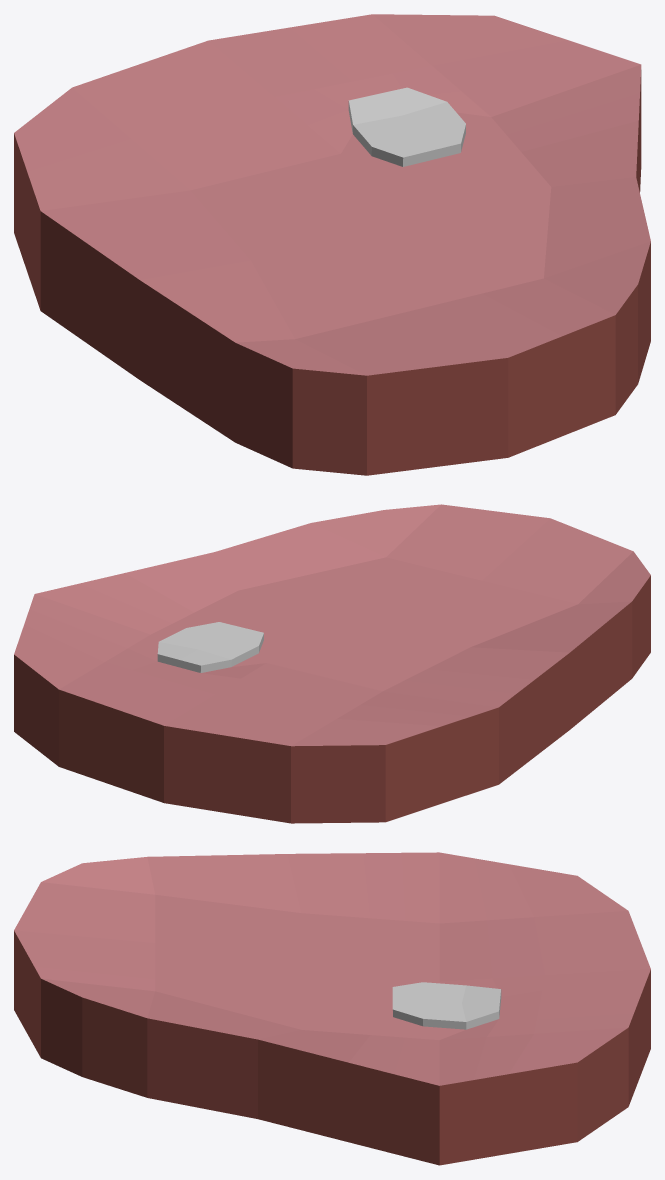
Rendered from steak.fbx.
The picture shows the model from 3 angles, top to bottom: view 1: azimuth 30°, elevation 25°; view 2: azimuth 150°, elevation 25°; view 3: azimuth 270°, elevation 25°; orthographic projection. The views are drawn at different scales.
Parts seen in each view (by area): view 1: Plane; view 2: Plane; view 3: Plane.
Part boxes in pixels (x1,y1,x2,y2): Plane: (14, 14, 650, 475); Plane: (14, 504, 650, 823); Plane: (14, 852, 650, 1165).
Size of the model in its own units: 2 by 0.3182 by 2.31.
